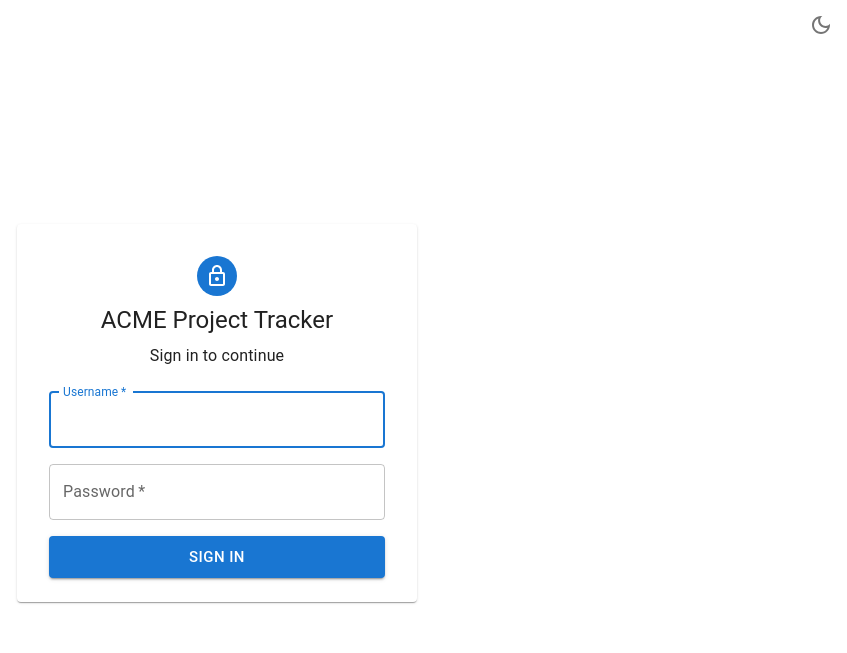
LoginPage › shows the server's error message when login fails
In the field labelled "Username *": x=217, y=420 [49,392,385,448], type "admin1"
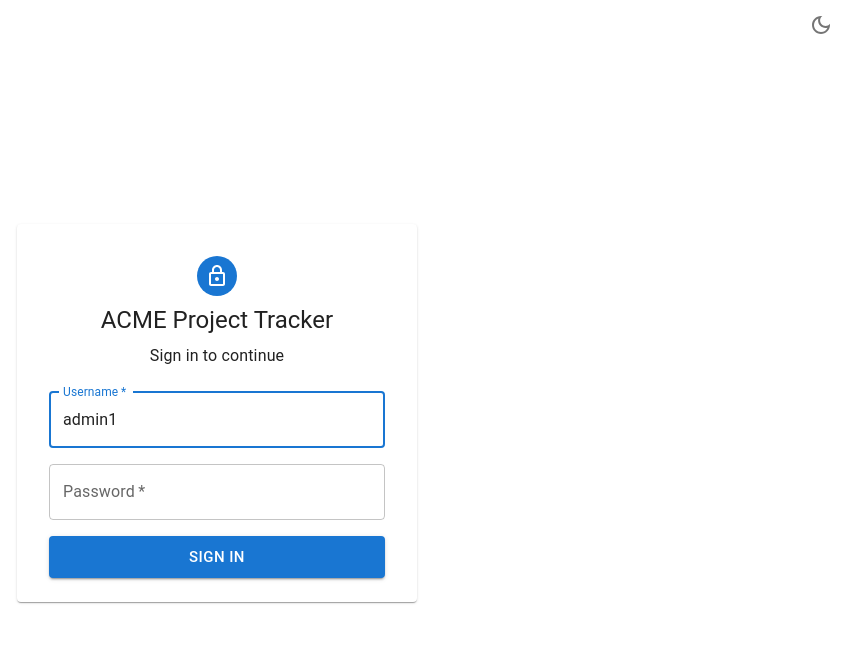
In the password field labelled "Password *": x=217, y=492 [49,464,385,520], type "wrong"
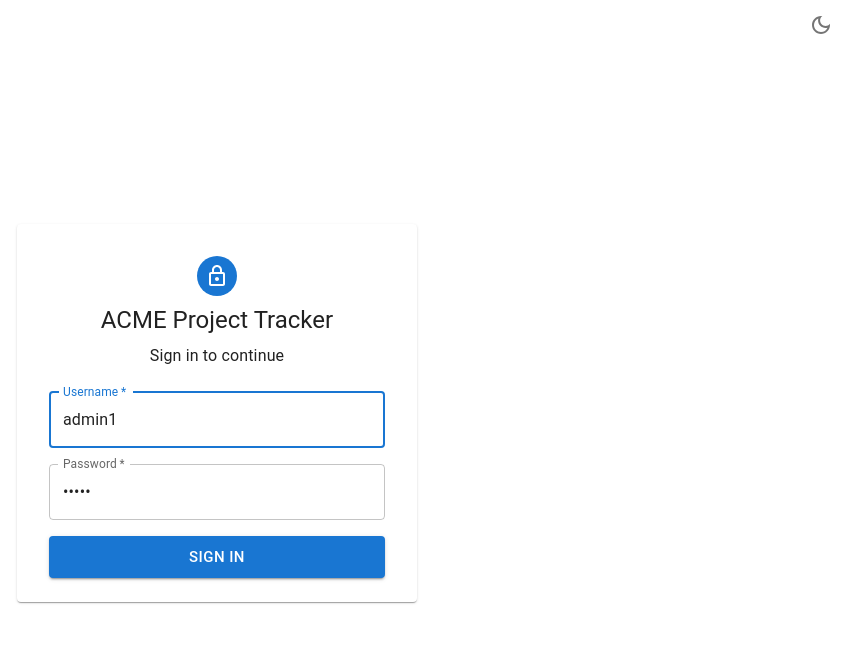
Click the button "Sign in": x=217, y=557 [49,536,385,578]
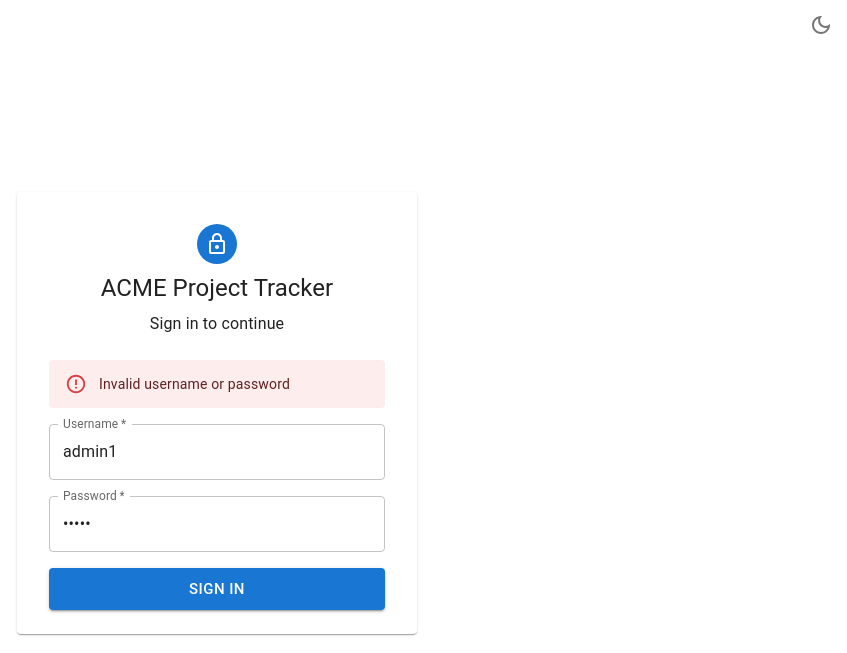
Expected: the message reads "Invalid username or password", [99,376,290,392]
